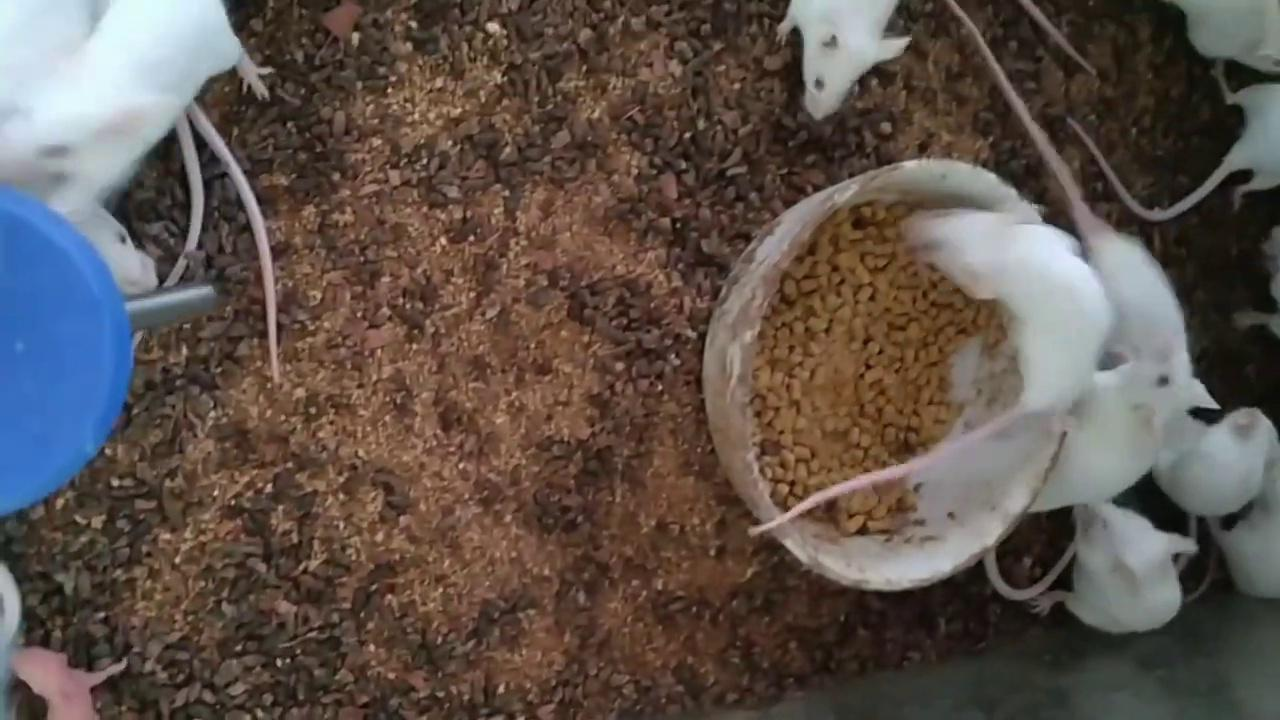rat: (747, 208, 1113, 537), (943, 0, 1218, 419), (0, 0, 275, 182), (1068, 63, 1280, 222), (985, 500, 1196, 636), (775, 0, 914, 119), (0, 200, 161, 294), (1150, 407, 1275, 513)
